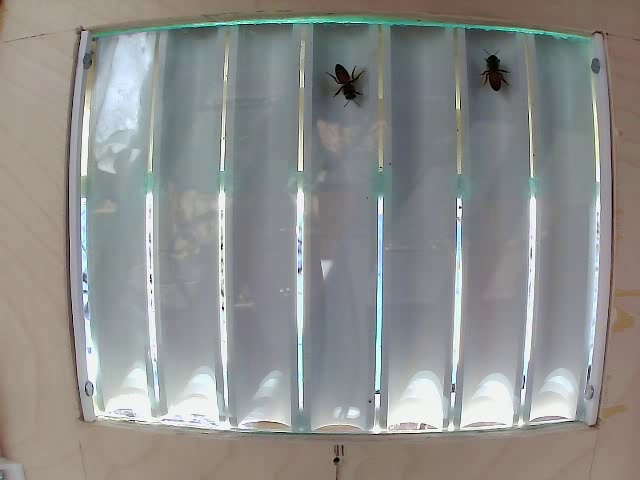bee: (326, 44, 389, 122), (480, 34, 514, 94)
